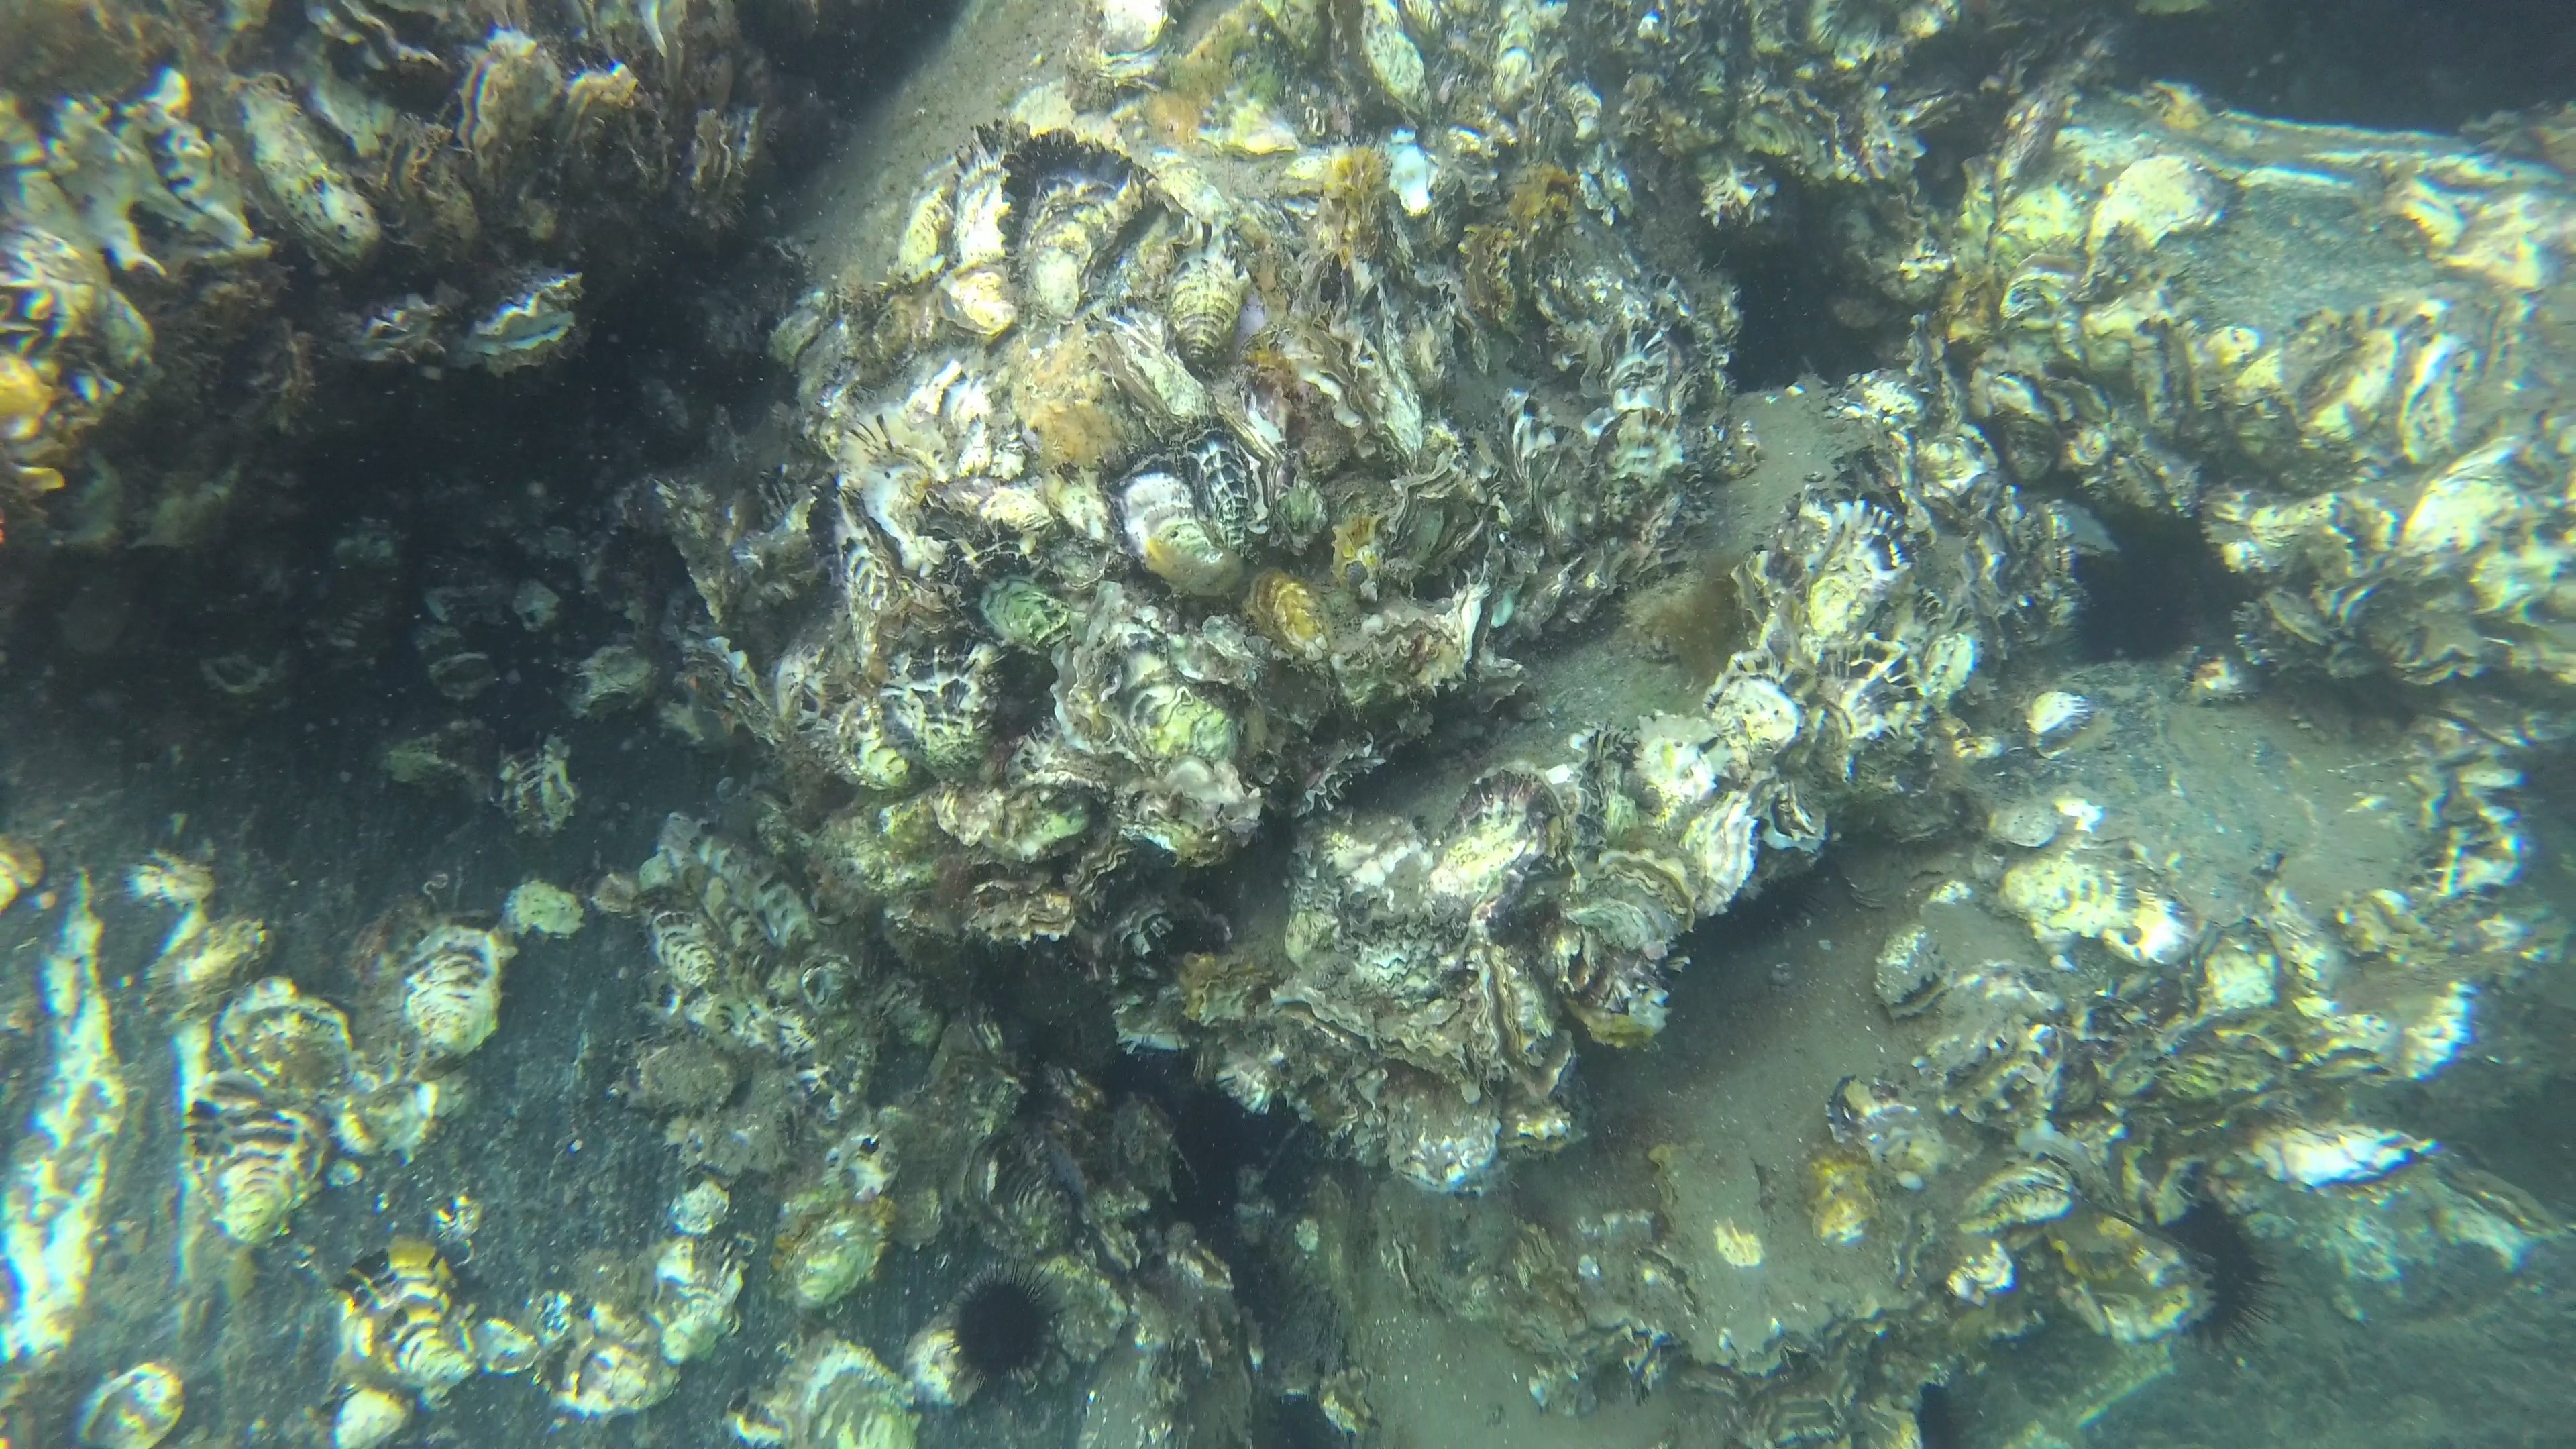echinus: (2153, 1189, 2291, 1371), (924, 1258, 1083, 1398)
scallop: (1865, 915, 1966, 1024)
